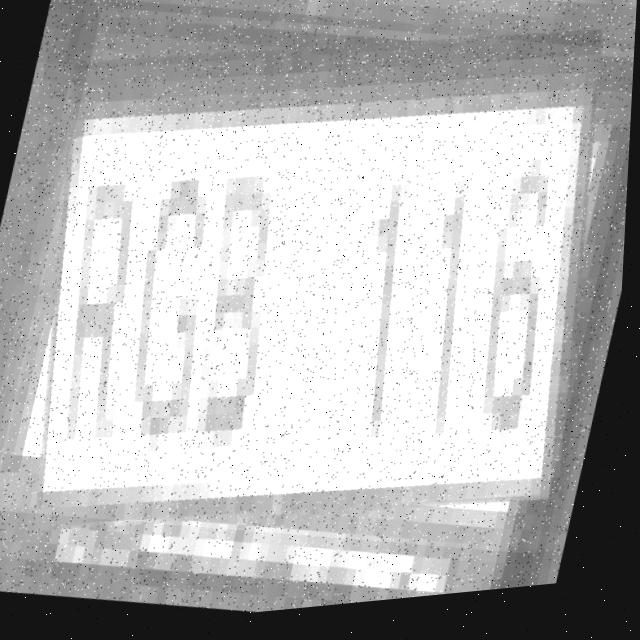LicensePlate: (0, 0, 639, 607)
